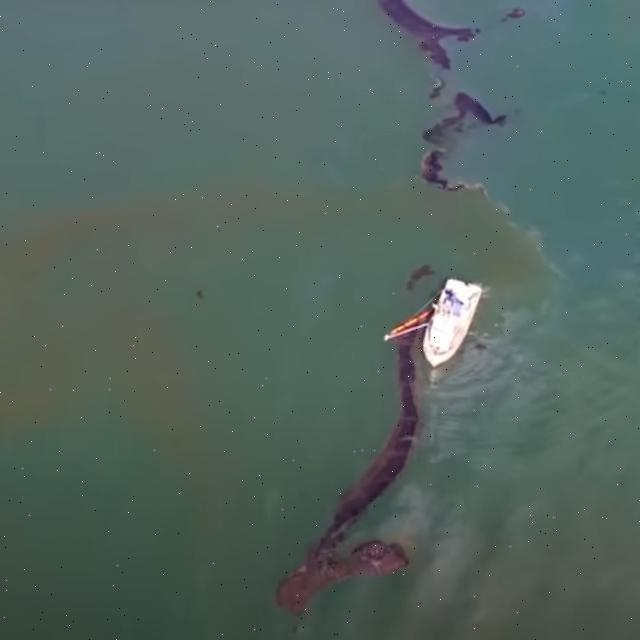truecolor: (275, 293, 438, 616), (421, 91, 507, 194), (378, 0, 479, 68), (431, 77, 444, 98)
